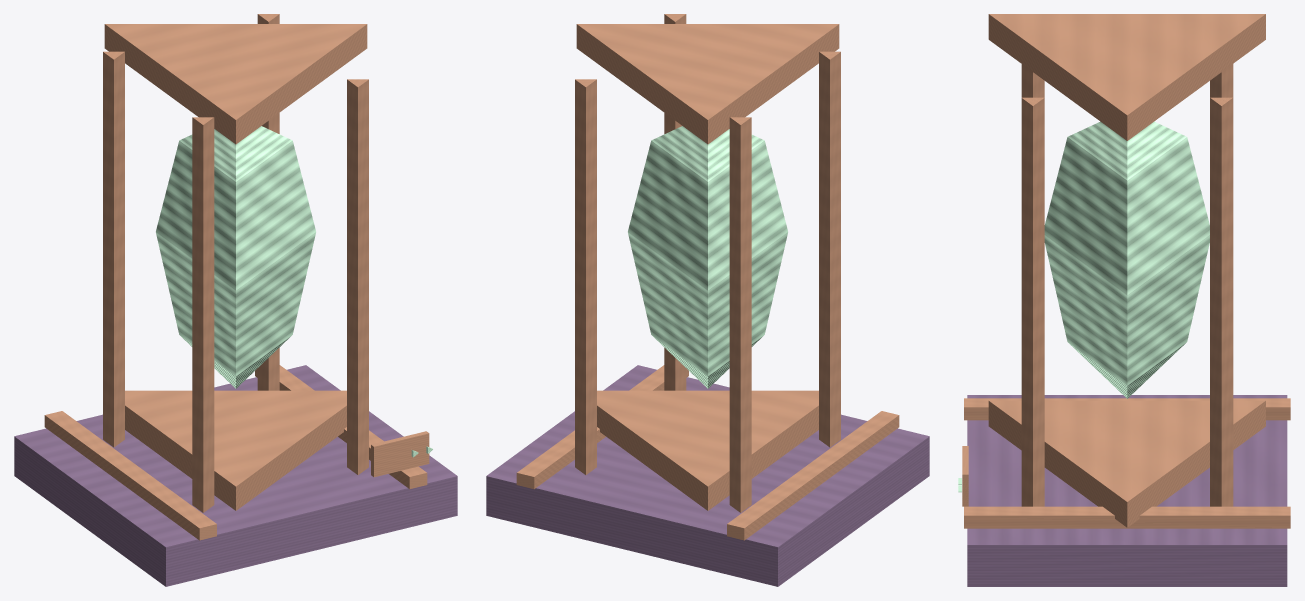
Rendered from atlas100-s083-a01.lod1.glb.
3 renders of one model, left to right at view 1: azimuth 30°, elevation 25°; view 2: azimuth 150°, elevation 25°; view 3: azimuth 270°, elevation 25°, orthographic. The views are drawn at different scales.
Visible parts, largest first — view 1: atlas100-s083-a01:part-000, atlas100-s083-a01:part-013, atlas100-s083-a01:part-004, atlas100-s083-a01:part-003, atlas100-s083-a01:part-007, atlas100-s083-a01:part-009, atlas100-s083-a01:part-005, atlas100-s083-a01:part-001, atlas100-s083-a01:part-014, atlas100-s083-a01:part-002, atlas100-s083-a01:part-011; view 2: atlas100-s083-a01:part-000, atlas100-s083-a01:part-013, atlas100-s083-a01:part-004, atlas100-s083-a01:part-003, atlas100-s083-a01:part-009, atlas100-s083-a01:part-007, atlas100-s083-a01:part-011, atlas100-s083-a01:part-001, atlas100-s083-a01:part-002, atlas100-s083-a01:part-005; view 3: atlas100-s083-a01:part-013, atlas100-s083-a01:part-000, atlas100-s083-a01:part-004, atlas100-s083-a01:part-003, atlas100-s083-a01:part-005, atlas100-s083-a01:part-011, atlas100-s083-a01:part-002, atlas100-s083-a01:part-001, atlas100-s083-a01:part-009, atlas100-s083-a01:part-007.
Boxes of the visible parts, x1,y1,x2,y2 form: atlas100-s083-a01:part-000: [14, 365, 457, 586]; atlas100-s083-a01:part-013: [156, 126, 315, 388]; atlas100-s083-a01:part-004: [104, 24, 367, 144]; atlas100-s083-a01:part-003: [125, 390, 346, 510]; atlas100-s083-a01:part-007: [192, 117, 214, 512]; atlas100-s083-a01:part-009: [103, 51, 124, 447]; atlas100-s083-a01:part-005: [347, 79, 368, 474]; atlas100-s083-a01:part-001: [44, 411, 216, 540]; atlas100-s083-a01:part-014: [371, 431, 429, 477]; atlas100-s083-a01:part-002: [255, 365, 427, 489]; atlas100-s083-a01:part-011: [257, 14, 279, 390]; atlas100-s083-a01:part-000: [486, 365, 929, 586]; atlas100-s083-a01:part-013: [628, 126, 787, 388]; atlas100-s083-a01:part-004: [576, 24, 839, 144]; atlas100-s083-a01:part-003: [597, 390, 818, 510]; atlas100-s083-a01:part-009: [729, 117, 751, 512]; atlas100-s083-a01:part-007: [819, 51, 840, 447]; atlas100-s083-a01:part-011: [575, 79, 596, 474]; atlas100-s083-a01:part-001: [727, 411, 899, 540]; atlas100-s083-a01:part-002: [516, 365, 688, 489]; atlas100-s083-a01:part-005: [664, 14, 686, 390]; atlas100-s083-a01:part-013: [1044, 121, 1209, 398]; atlas100-s083-a01:part-000: [967, 395, 1287, 586]; atlas100-s083-a01:part-004: [988, 14, 1265, 140]; atlas100-s083-a01:part-003: [988, 400, 1265, 527]; atlas100-s083-a01:part-005: [1021, 97, 1044, 506]; atlas100-s083-a01:part-011: [1210, 97, 1233, 506]; atlas100-s083-a01:part-002: [964, 506, 1290, 528]; atlas100-s083-a01:part-001: [964, 398, 1290, 420]; atlas100-s083-a01:part-009: [1210, 64, 1233, 97]; atlas100-s083-a01:part-007: [1021, 64, 1044, 97].
Size of the model in its own units: 2 by 2.88 by 1.87.
Materials: 3 (3 with a texture image).
